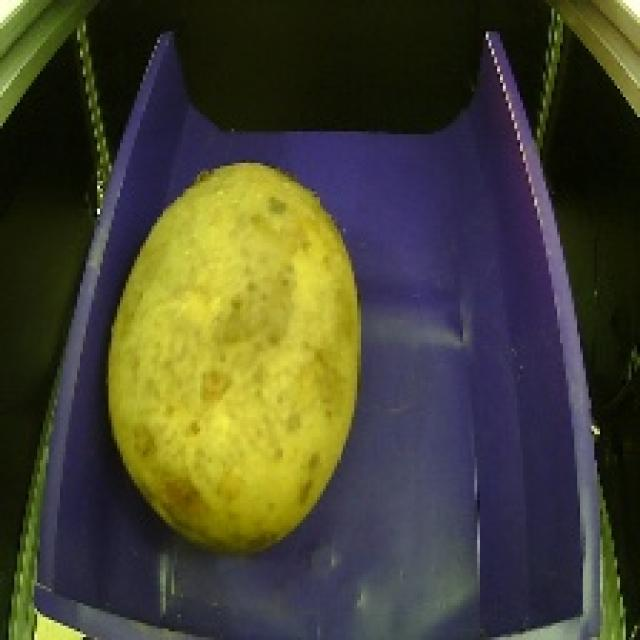full_potato: (90, 139, 372, 565)
